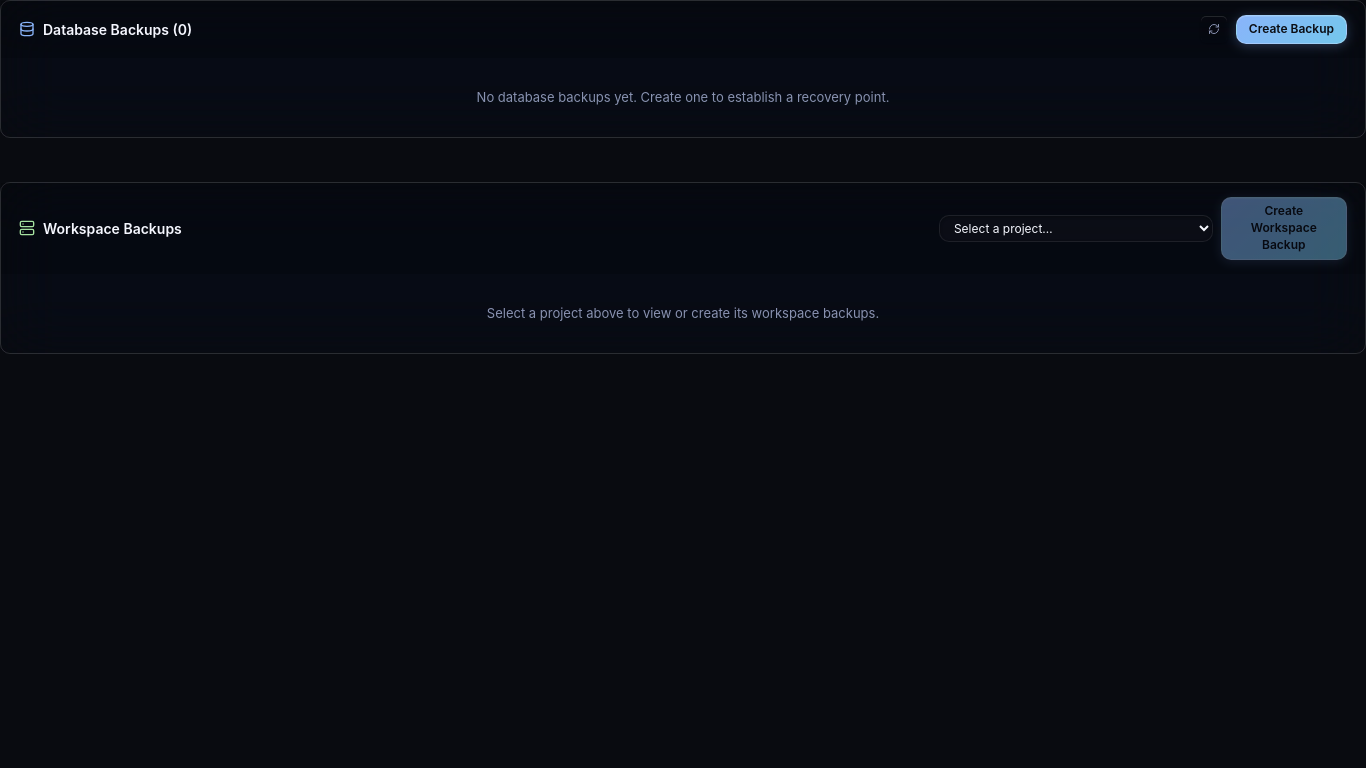
Scenario: AdminBackupsPanel — Milestone 46 › 16. cancelling restore makes no POST
Expected: the text "No database backups yet" is shown, top-left (477, 89), bottom-right (889, 105)
Select "My Project (alice)" in the dropdown at {"x": 1076, "y": 228}, box top-left (939, 215), bottom-right (1213, 242)
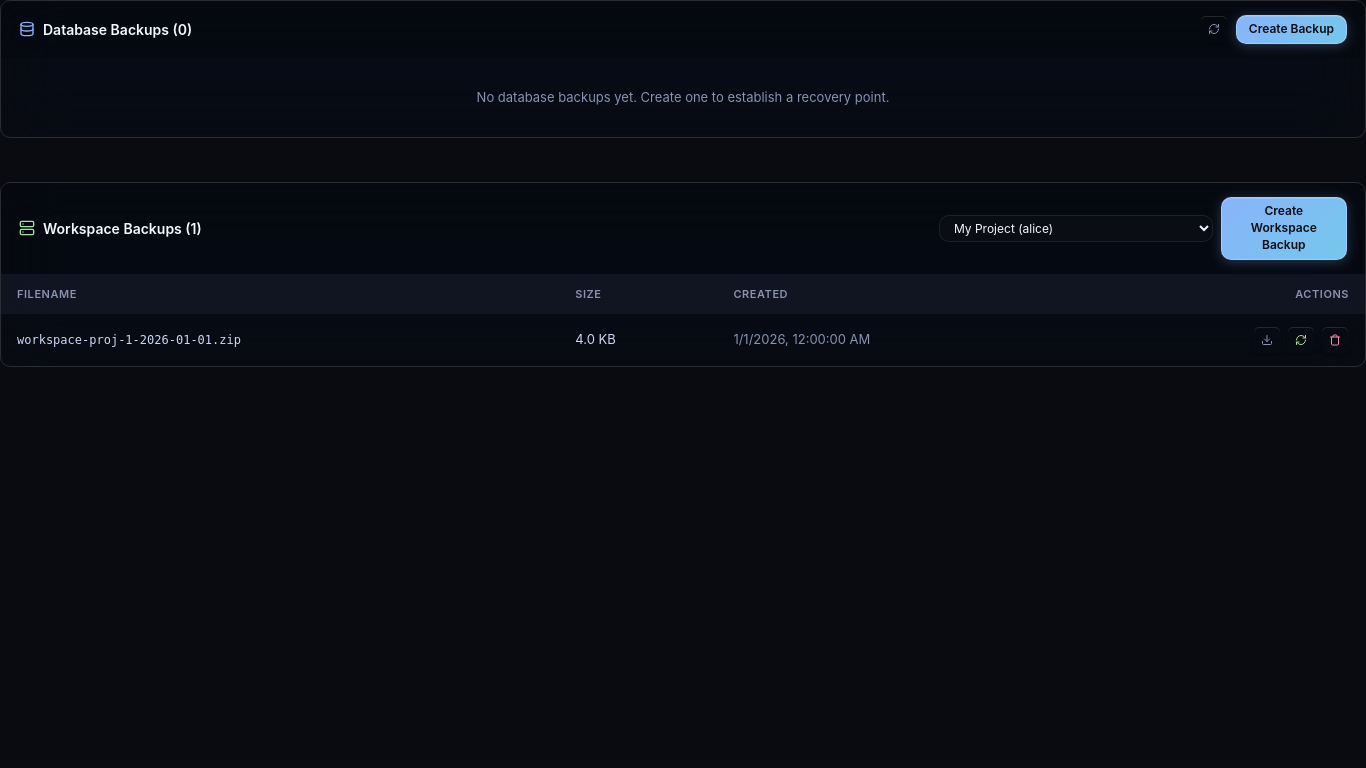
Expected: the text "workspace-proj-1-2026-01-01.zip" is shown, top-left (1, 314), bottom-right (559, 366)
Click the button named "Restore workspace-proj-1-2026-01-01.zip".
click(1301, 340)  # box top-left (1287, 326), bottom-right (1315, 354)
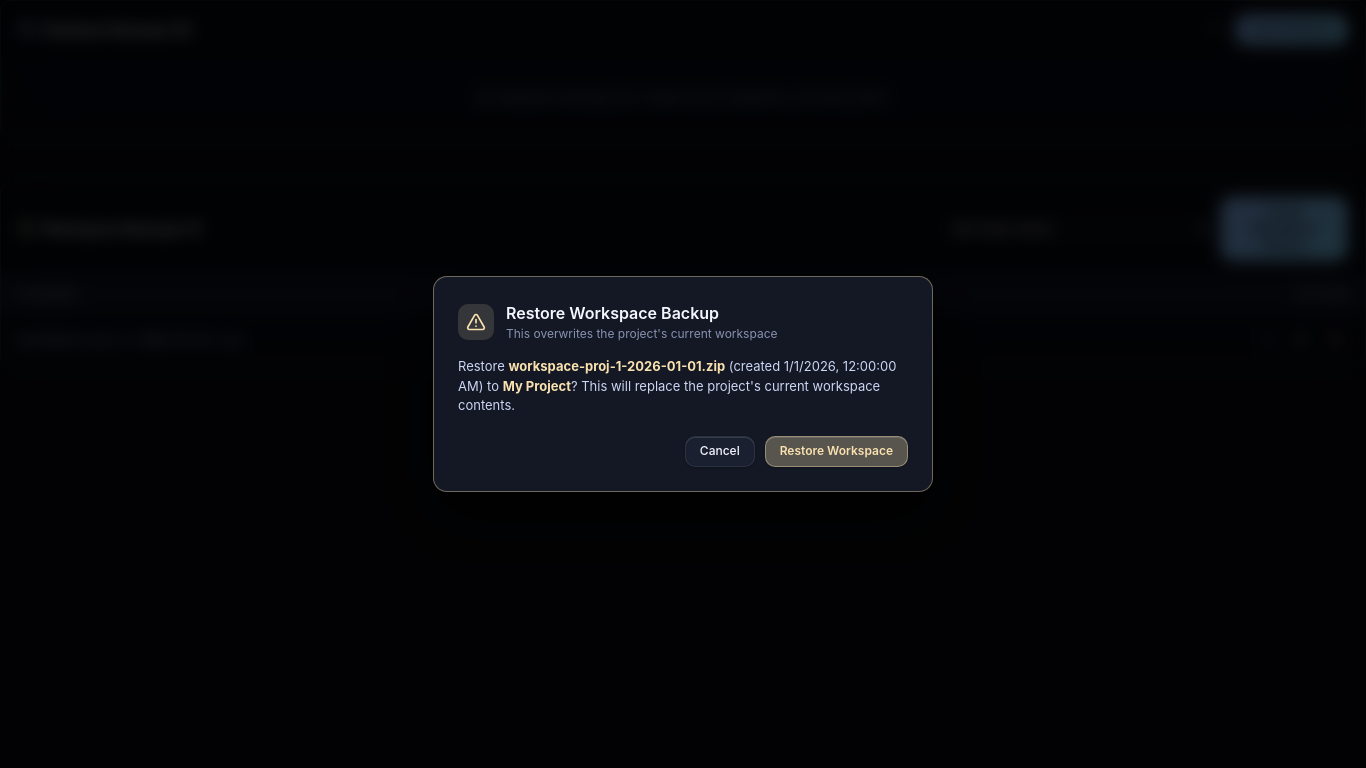
Expected: the heading "Restore Workspace Backup" is shown, top-left (506, 303), bottom-right (719, 323)
Click the button "Cancel".
click(720, 451)  # box top-left (685, 436), bottom-right (755, 467)
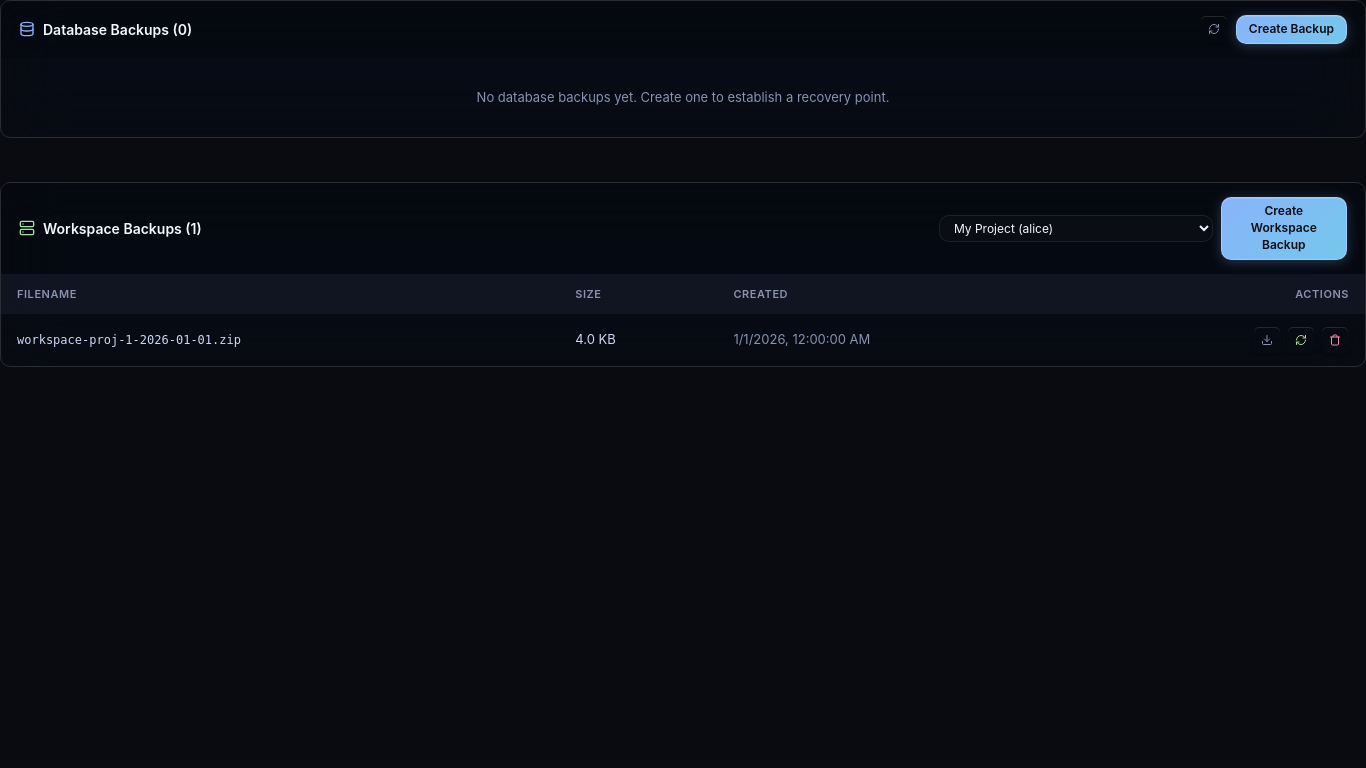
Expected: the heading "Restore Workspace Backup" is gone
